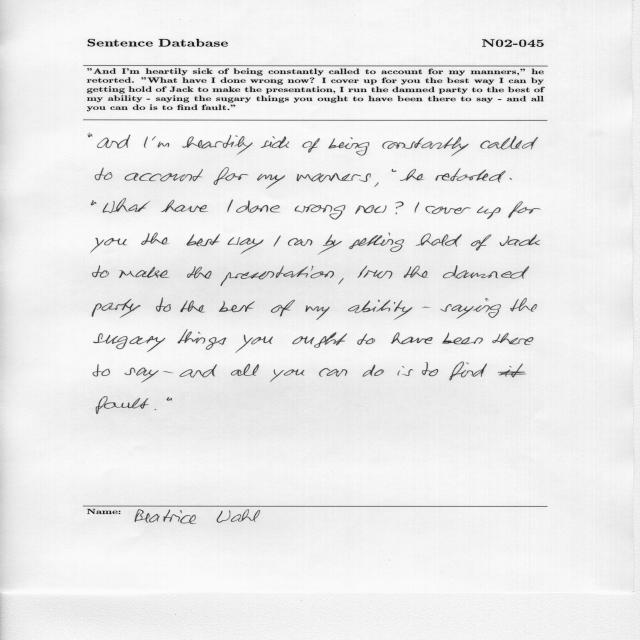word: (221, 266, 334, 286), (383, 137, 469, 157), (183, 135, 253, 155), (94, 333, 166, 352), (348, 300, 412, 320), (441, 298, 501, 319), (443, 266, 529, 279), (436, 168, 506, 183), (349, 233, 404, 252), (178, 329, 227, 350), (124, 169, 203, 182), (92, 299, 141, 318), (96, 397, 149, 414), (292, 332, 347, 348), (329, 137, 370, 156), (295, 205, 346, 220), (480, 136, 538, 149), (103, 198, 151, 213), (235, 335, 273, 353), (297, 173, 371, 182), (450, 362, 487, 380), (416, 233, 462, 247), (214, 167, 249, 185), (228, 237, 264, 254), (398, 362, 439, 376), (236, 200, 280, 213), (161, 200, 208, 212), (508, 201, 541, 218), (119, 267, 169, 278), (125, 368, 159, 383), (91, 238, 127, 252), (391, 332, 433, 344), (499, 234, 540, 246), (442, 333, 483, 345), (493, 333, 534, 345), (180, 365, 217, 378), (318, 235, 342, 255), (270, 369, 304, 382), (97, 135, 130, 148), (257, 174, 285, 189), (498, 363, 526, 378), (186, 234, 220, 246), (219, 301, 255, 312), (271, 300, 295, 316), (510, 298, 537, 312), (305, 305, 330, 320), (426, 206, 471, 214), (471, 234, 491, 251), (261, 137, 289, 149), (231, 364, 259, 376), (180, 300, 205, 313), (141, 233, 168, 245), (477, 207, 501, 220), (187, 266, 211, 279), (400, 169, 424, 181), (404, 266, 428, 278), (356, 205, 387, 214), (302, 138, 320, 153), (364, 270, 393, 279), (319, 368, 347, 377), (363, 365, 384, 377), (95, 168, 113, 181), (156, 298, 171, 312), (92, 266, 109, 278), (93, 364, 110, 376), (357, 334, 375, 345), (288, 238, 312, 246), (152, 137, 169, 148), (358, 266, 367, 278), (396, 202, 404, 215), (227, 199, 233, 212), (274, 236, 281, 247), (144, 137, 148, 148), (415, 202, 419, 213), (338, 278, 344, 284), (91, 201, 96, 206), (166, 397, 172, 401), (375, 182, 379, 187), (163, 371, 173, 373), (88, 133, 92, 137), (392, 169, 396, 172), (422, 307, 430, 308), (509, 178, 512, 180), (155, 409, 157, 410)
